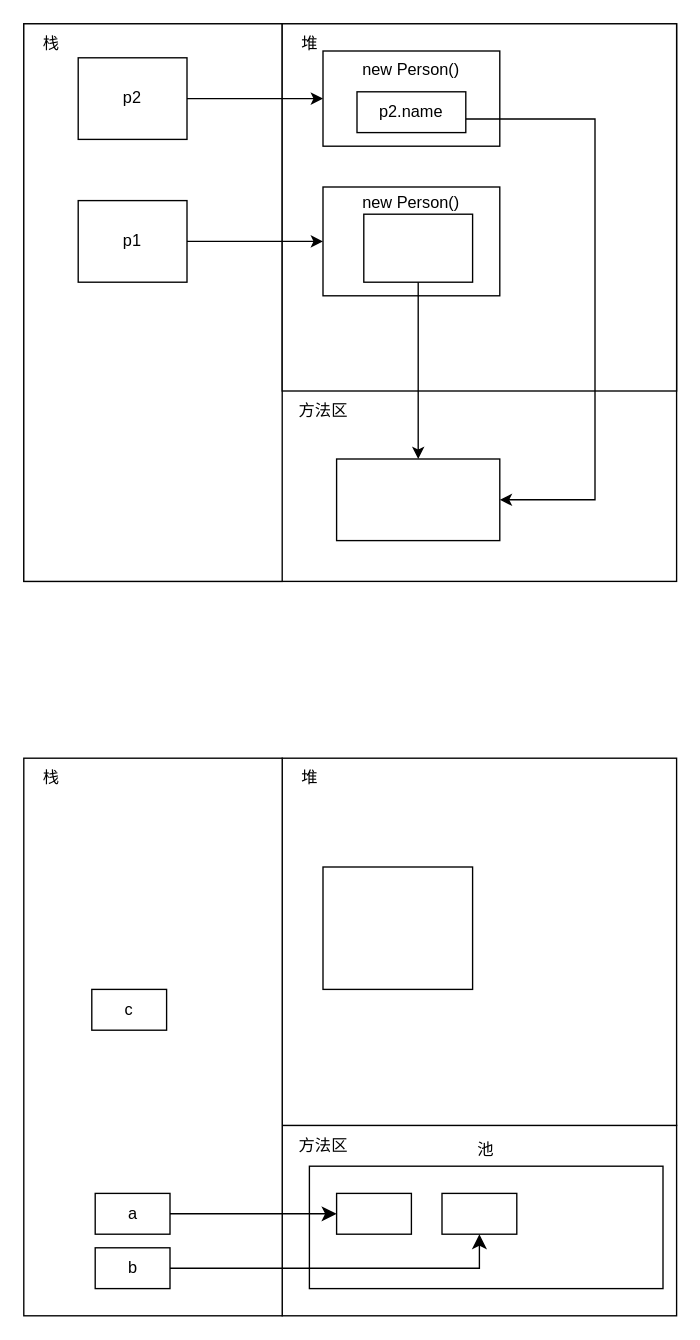
Image size: 700x1340. Some labels were removed from this diagram. The centre of each missing label's shape, as x and y in pixels:
"abc" goes at (479,1213).
"hello" goes at (373,1213).
"hspedu" goes at (417,499).
"new String()" goes at (397,927).
"p1.name" goes at (417,247).
